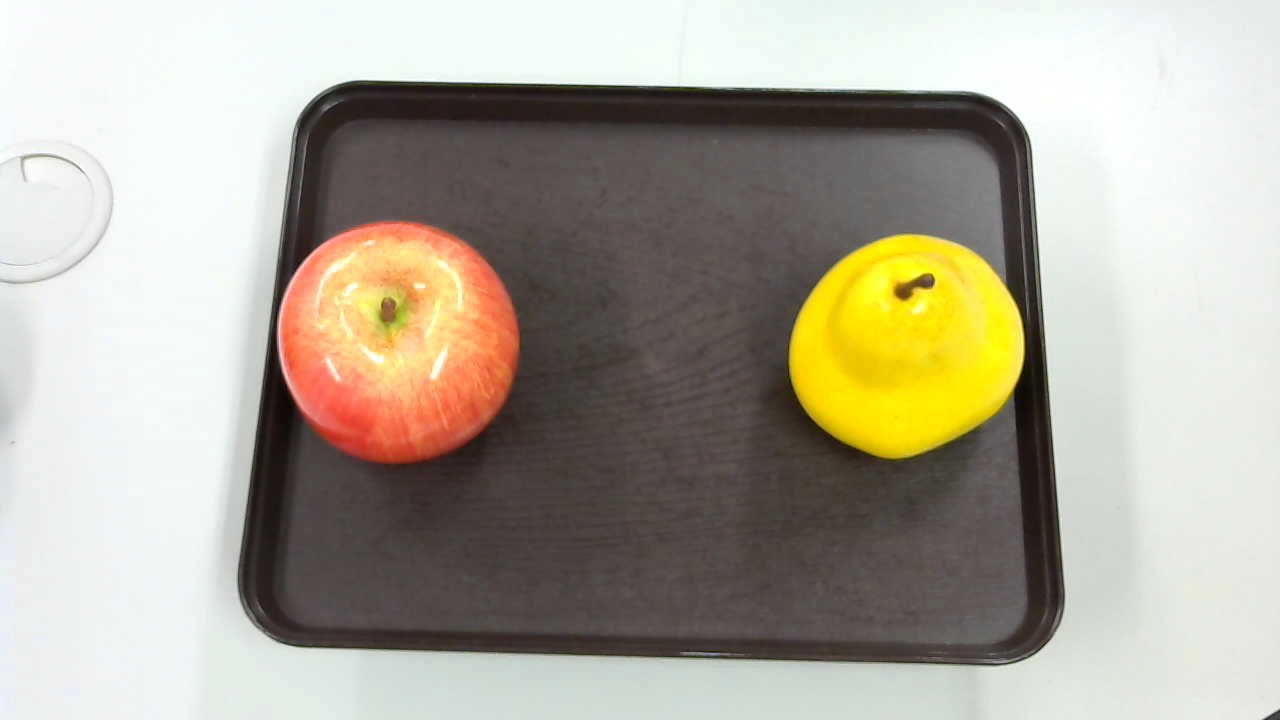red apple: (267, 217, 516, 471)
yellow pear: (782, 230, 1026, 468)
